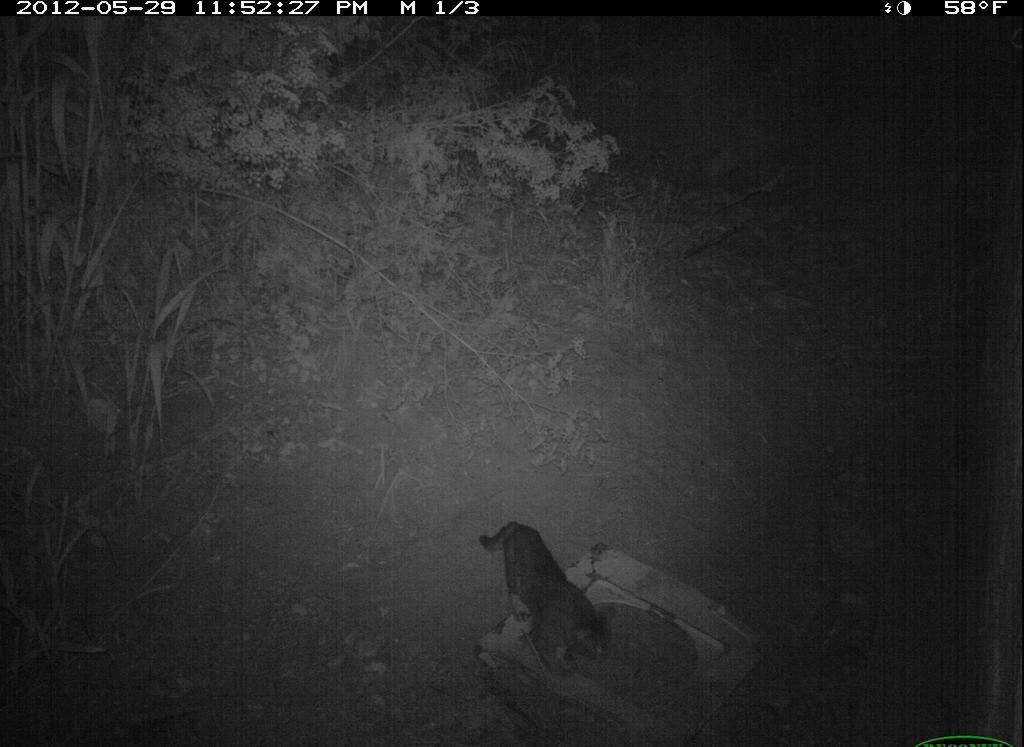cat: (454, 513, 616, 688)
